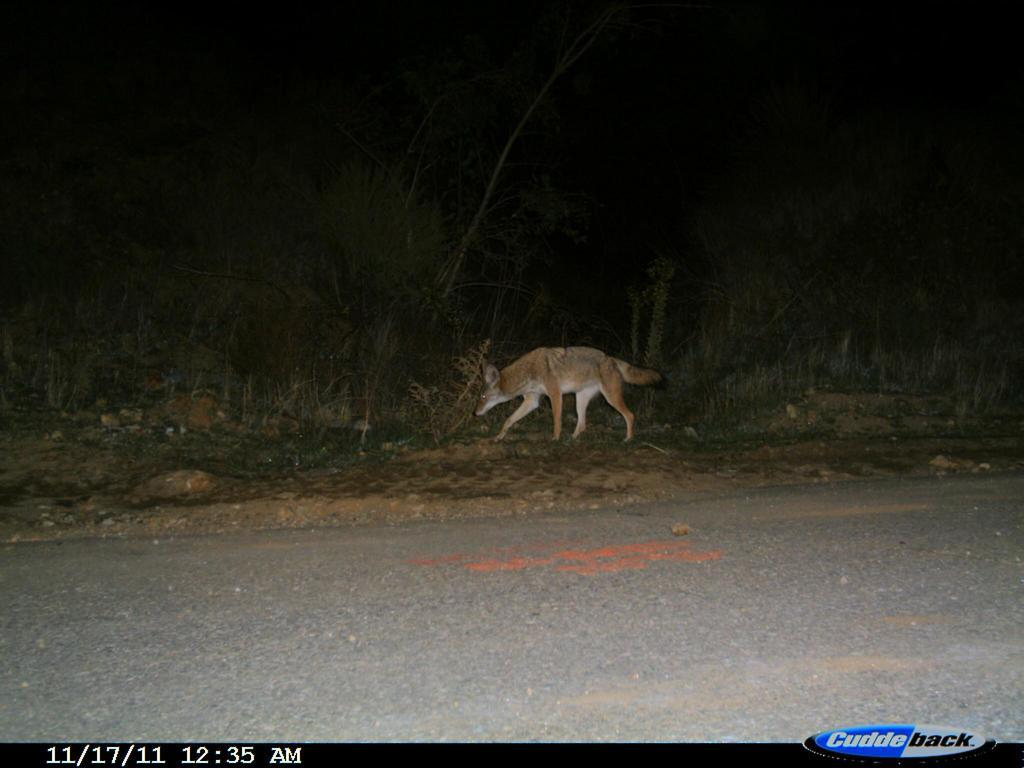coyote: (471, 341, 679, 458)
